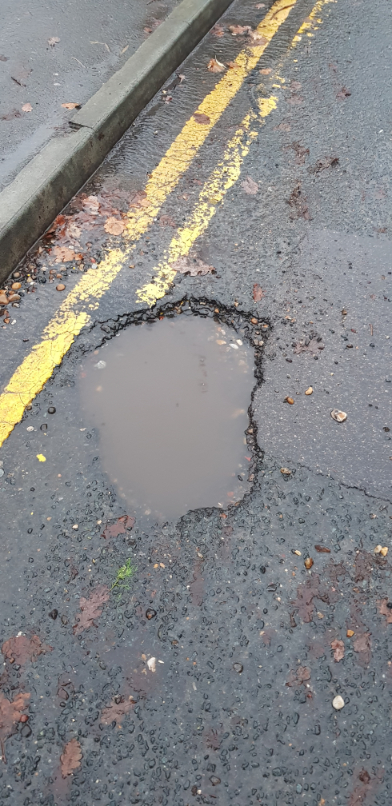pothole: (68, 289, 276, 539)
